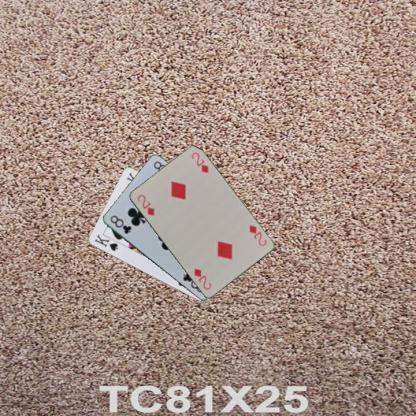2d: (246, 222, 268, 247), (134, 192, 156, 216)
8c: (107, 212, 132, 235)
Ks: (92, 232, 119, 252)
